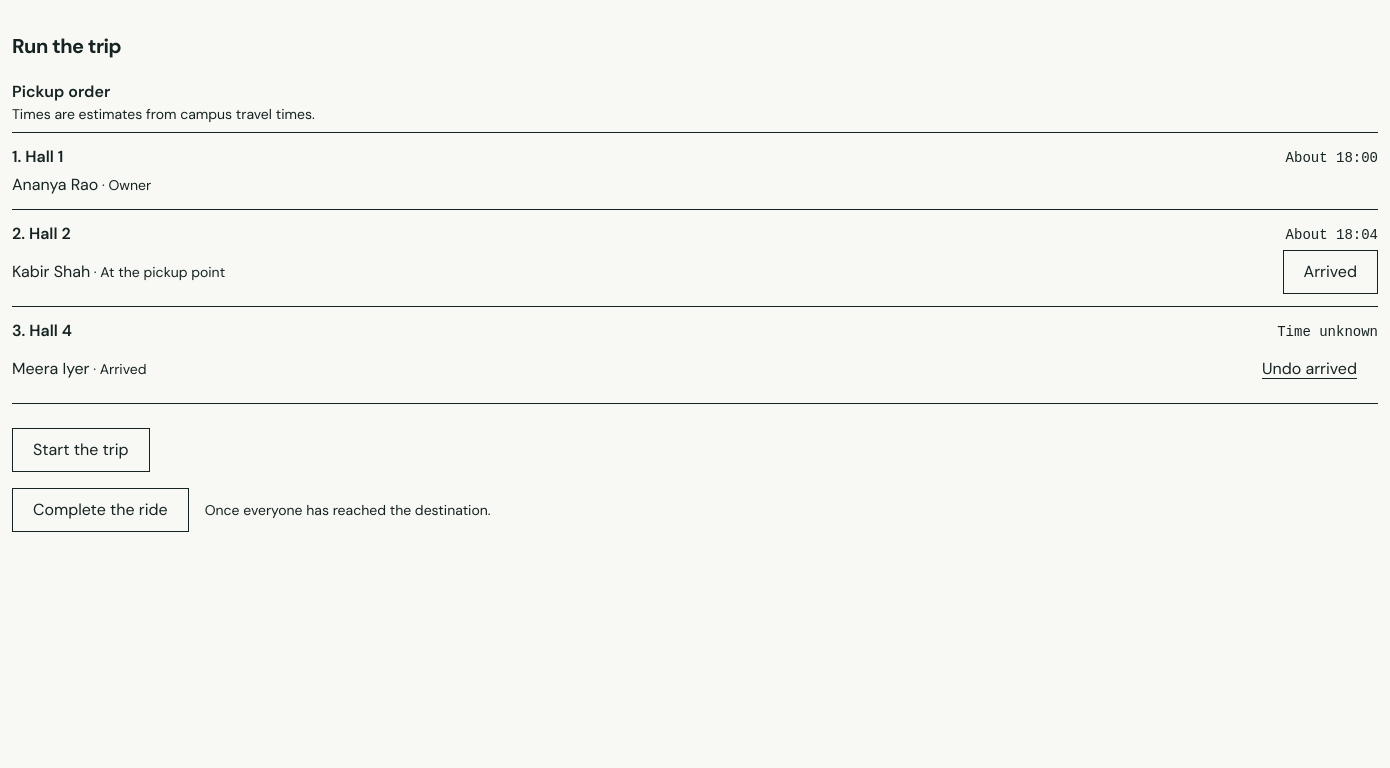
Test case: TripPanel: the owner runs the trip (FR-RO-09, FR-RO-10) › during pickup gives each rider their buttons, and names who is unmarked when the trip starts
Expected: the button with aria-label "Kabir Shah arrived" is shown, [1282,250,1378,294]
Expected: the button with aria-label "Undo arrived for Meera Iyer" is shown, [1241,347,1378,391]
Click the button "Start the trip" at {"x": 81, "y": 450}, box [12,428,150,472]
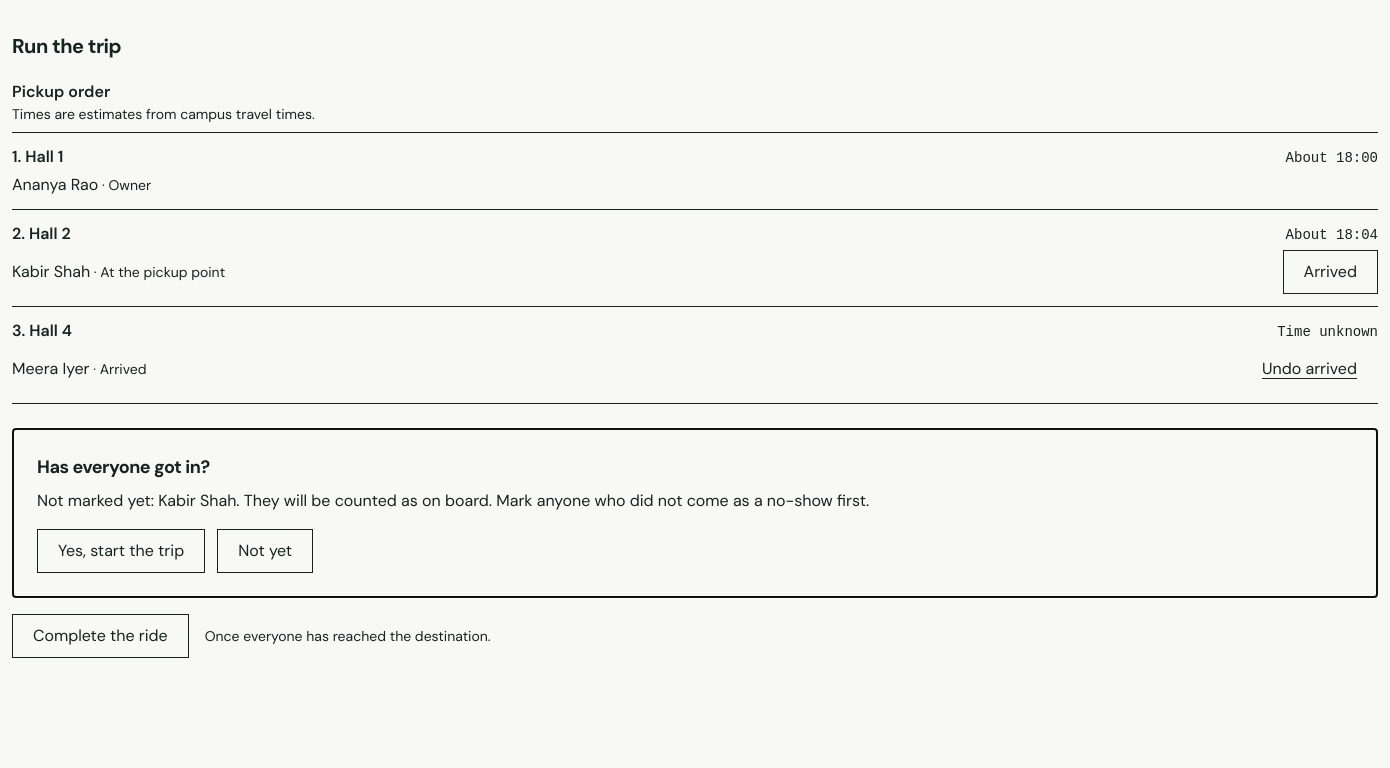
Expected: the button "Complete the ride" is shown, [12,614,189,658]
Expected: the element "Has everyone got in?" shows "Not marked yet: Kabir Shah. They will be counted as on board.", [12,428,1378,598]
